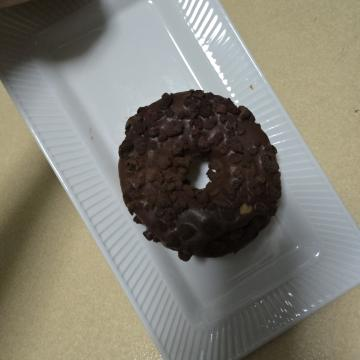doughnut: (73, 69, 270, 251)
